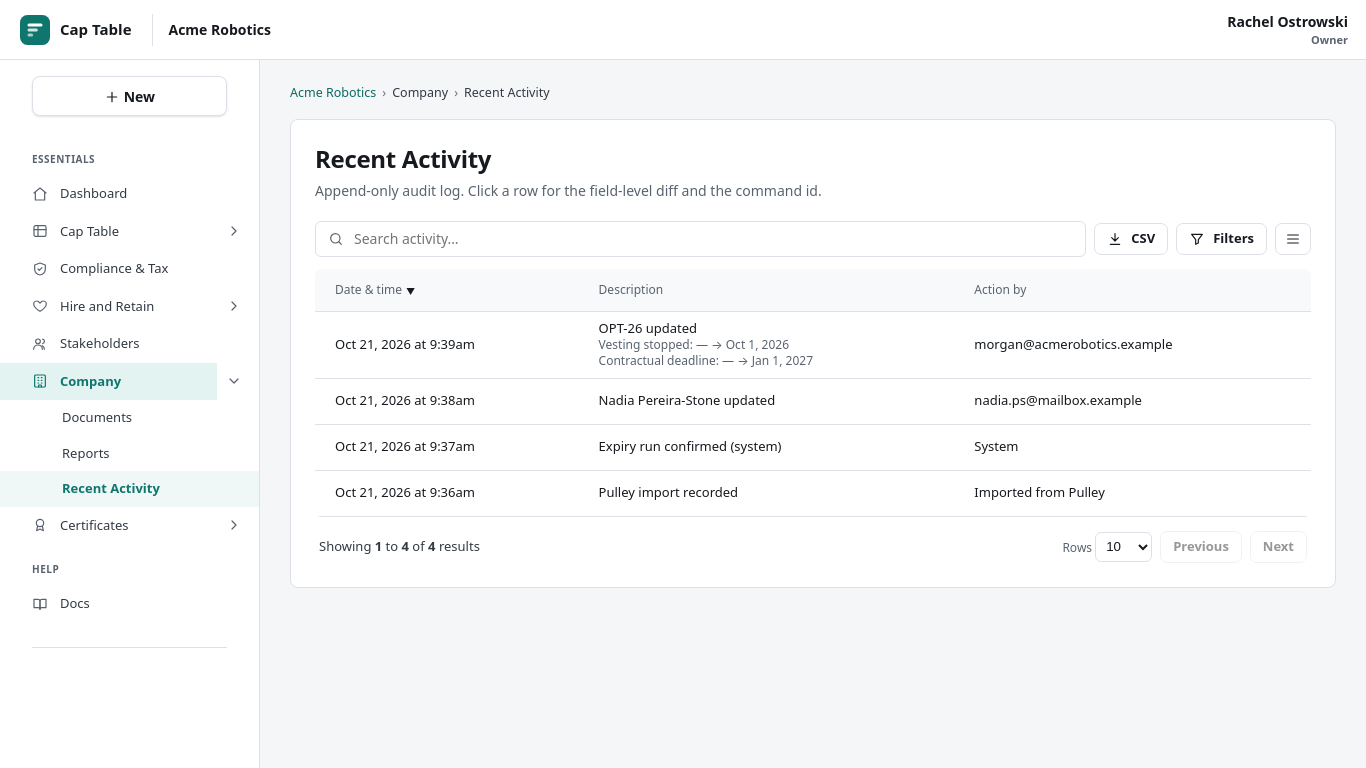
Test: recent activity › opens the field-level diff with the command id
Click the row named "OPT-26 updated, Oct 21, 2026 at 9:39am" at (813, 345), box [315,312,1311,379]
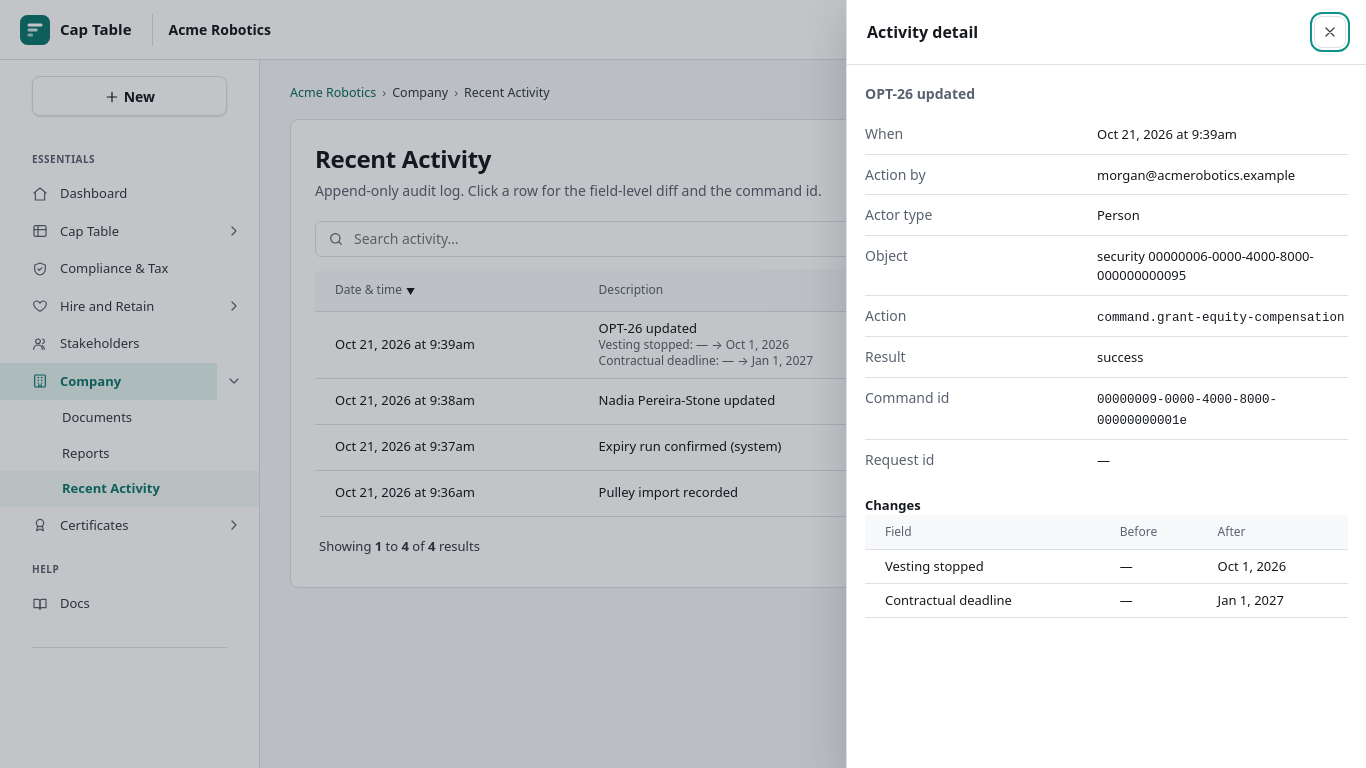
Result: the text "Contractual deadline" is shown at [865,584,1106,618]
Press Escape in the dialog "Activity detail", box [846,0,1365,767]
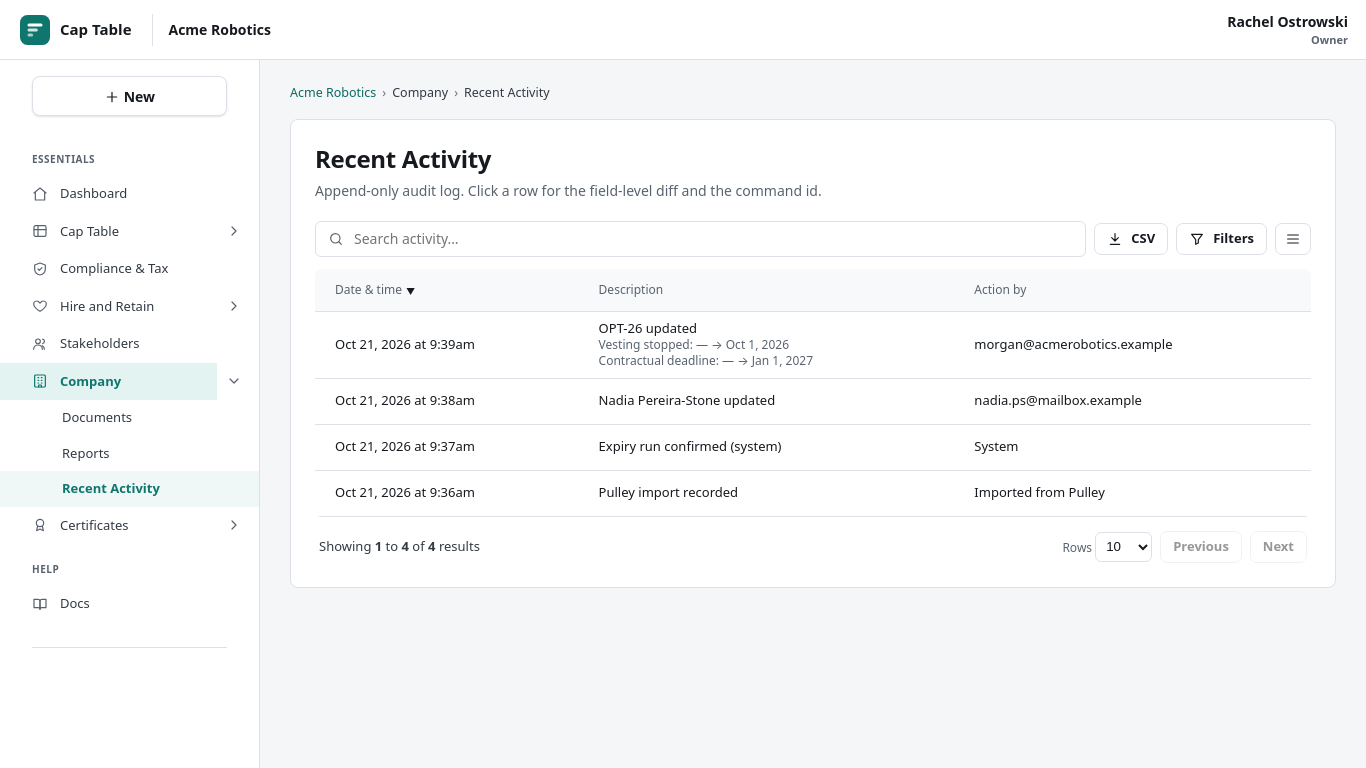
Result: the dialog is gone
